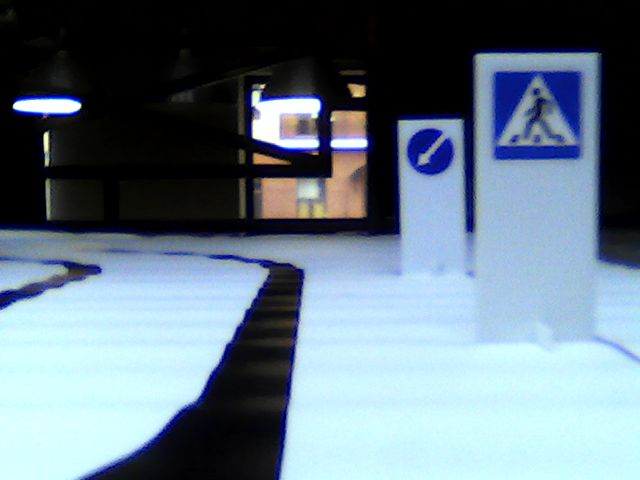pesh: (493, 72, 585, 168)
prep: (405, 125, 454, 177)
